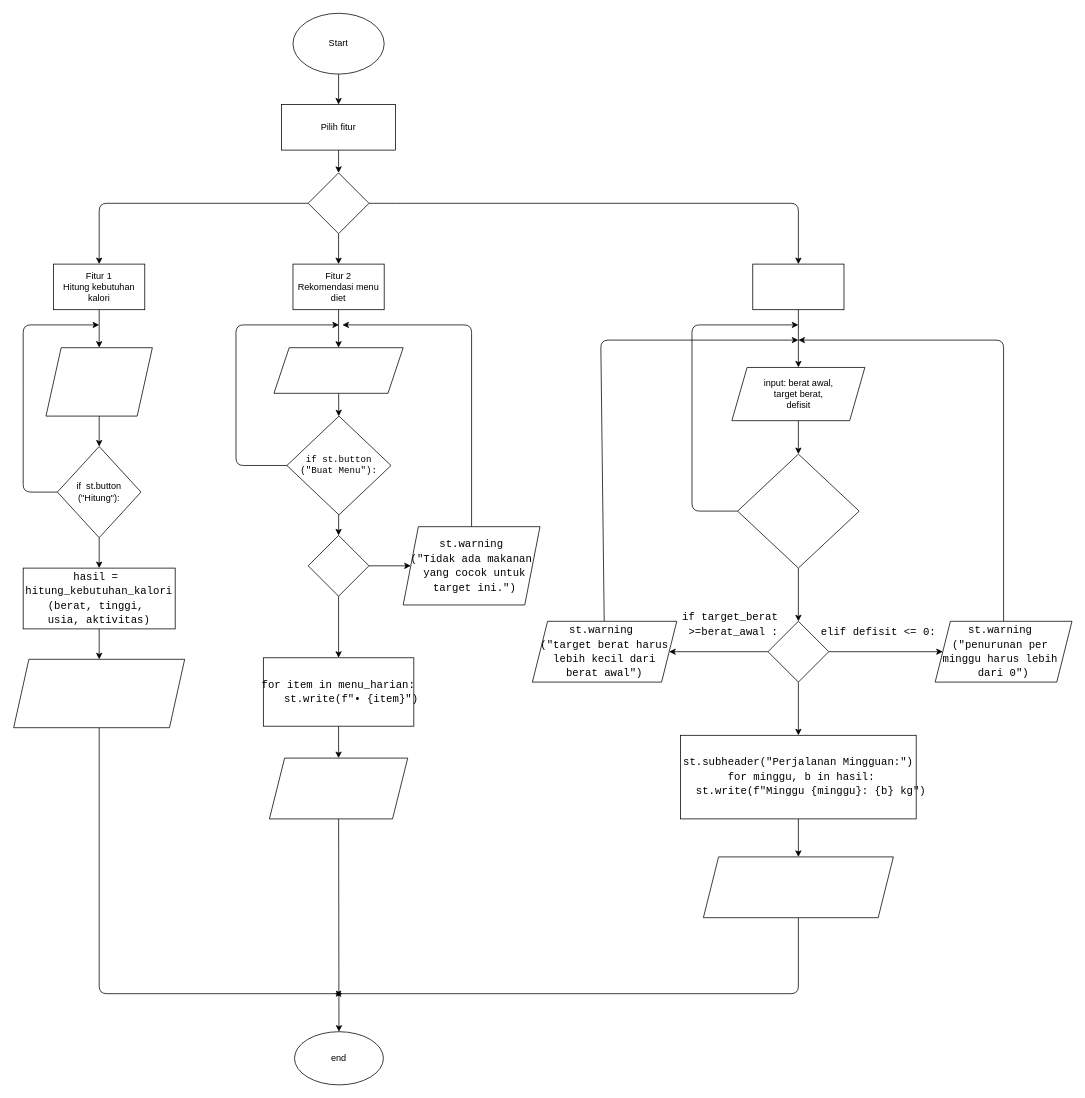
This 1085x1098 diagram has some shape labels left out. The shapes that lost their labels are listed below. From the top down, each one's centre as x and y in pixels, then its label:
point 798,286: Fitur 3 Simulasi progres berat badan
point 98,381: Input:berar badan, tinggi badan, usia, aktivitas
point 338,370: input: target kalori harian
point 798,510: if st.button ("Simulasikan"):
point 99,693: st . success ( f "Total kebutuhan kalori harianmu adalah ** { hasil } kcal**" )
point 338,788: st.success (f"Total kalori: **{total} kcal**")
point 798,887: st.success (f"Mencapai target dalam **{len(hasil)} minggu**")
